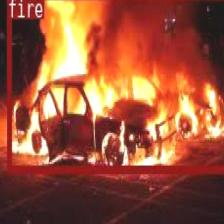fire: (7, 0, 224, 170)
